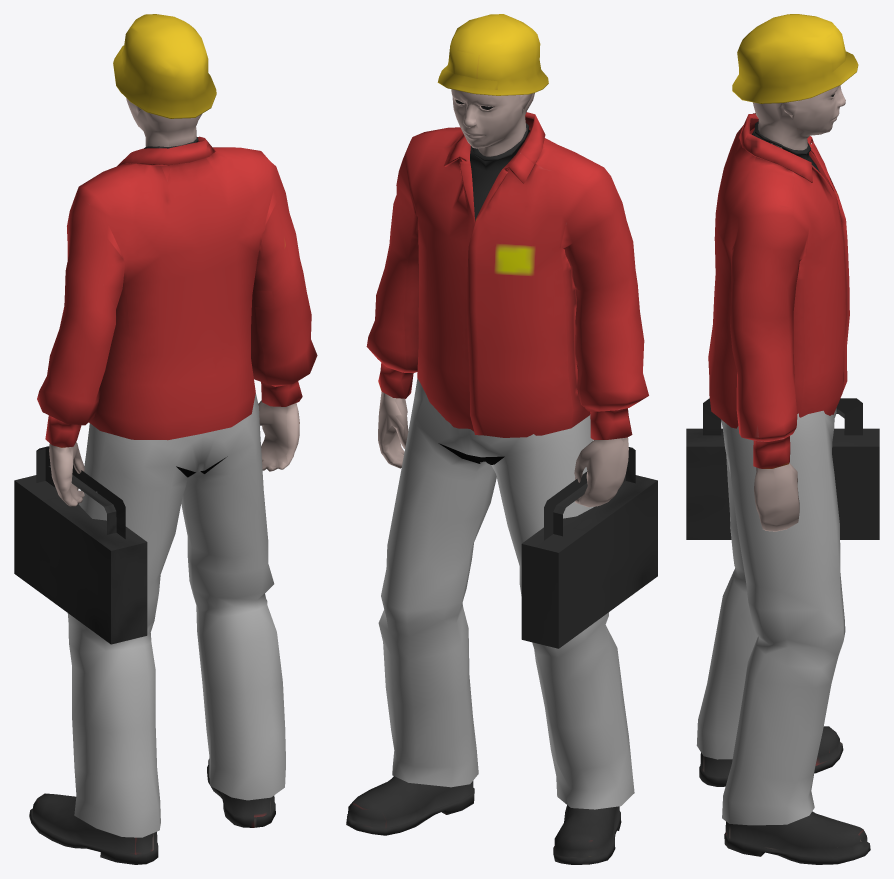
Rendered from engineer.fbx.
3 views of the same model, side by side, from view 1: azimuth 30°, elevation 25°; view 2: azimuth 150°, elevation 25°; view 3: azimuth 270°, elevation 25° (orthographic). The views are drawn at different scales.
Visible parts, largest first — view 1: engineer; view 2: engineer; view 3: engineer.
Boxes of the visible parts, bbox=[...] form: engineer: bbox=[14, 14, 317, 864]; engineer: bbox=[346, 14, 657, 864]; engineer: bbox=[686, 14, 879, 864].
Bounding box in the file's own units: 66.02 × 184 × 40.49.
